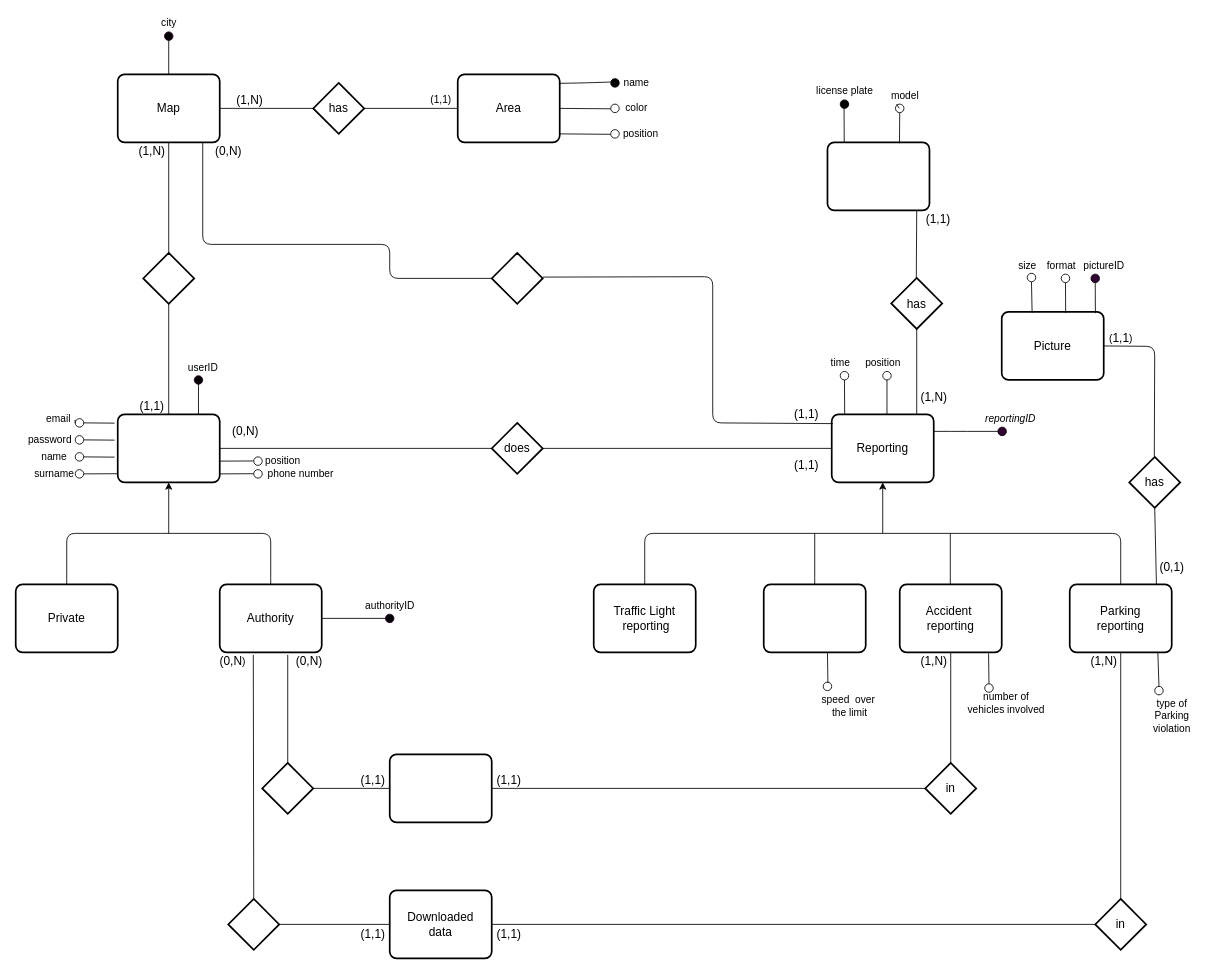
The diagram is 1211 pixels wide and 973 high, and some of its shapes have lost their labels. Each missing label, with the centre of its shape:
"contains" goes at (516,278).
"download" goes at (253,924).
"sees" goes at (168,278).
"Speed reporting" goes at (814,618).
"upload" goes at (287,788).
"Uploaded data" goes at (440,788).
"User" goes at (168,448).
"Vehicle" goes at (878,176).
